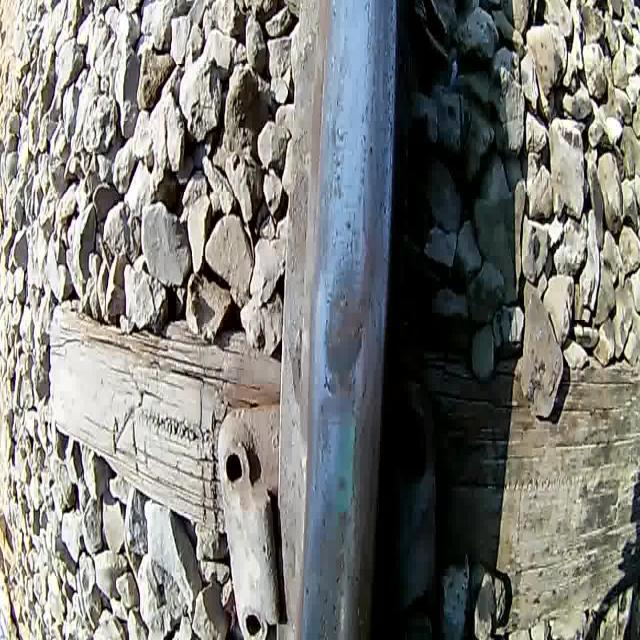Squats: (314, 232, 380, 414), (300, 461, 362, 640)
